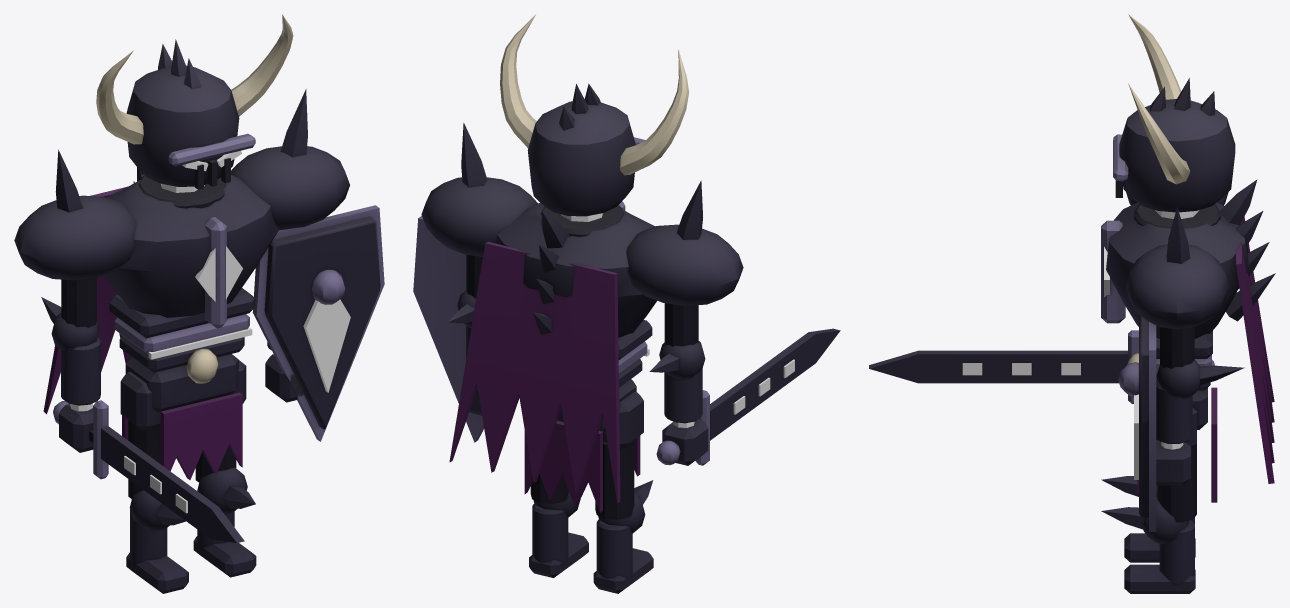
The model's file is foe_knight.fbx.
The picture shows the model from 3 angles, left to right: view 1: azimuth 30°, elevation 25°; view 2: azimuth 150°, elevation 25°; view 3: azimuth 270°, elevation 25°; orthographic projection. The views are drawn at different scales.
Parts seen in each view (by area): view 1: foe_knight_body, foe_knight_leg_fl, foe_knight_leg_fr, foe_knight_head, foe_knight_leg_br, foe_knight_leg_bl, foe_knight_leg_fl_glow, foe_knight_tail, foe_knight_body_glow, foe_knight_leg_fr_glow, foe_knight_head_glow; view 2: foe_knight_tail, foe_knight_leg_fr, foe_knight_body, foe_knight_head, foe_knight_leg_fl, foe_knight_leg_br, foe_knight_leg_bl, foe_knight_leg_fr_glow; view 3: foe_knight_leg_fl, foe_knight_head, foe_knight_body, foe_knight_leg_fr, foe_knight_leg_bl, foe_knight_tail, foe_knight_leg_br, foe_knight_leg_fr_glow, foe_knight_leg_fl_glow.
Part boxes in pixels (bbox=[...]): foe_knight_body: bbox=[104, 167, 279, 479]; foe_knight_leg_fl: bbox=[231, 89, 384, 441]; foe_knight_leg_fr: bbox=[14, 149, 244, 542]; foe_knight_head: bbox=[96, 14, 293, 189]; foe_knight_leg_br: bbox=[120, 372, 188, 593]; foe_knight_leg_bl: bbox=[193, 360, 256, 577]; foe_knight_leg_fl_glow: bbox=[303, 299, 350, 392]; foe_knight_tail: bbox=[43, 186, 131, 414]; foe_knight_body_glow: bbox=[148, 246, 252, 359]; foe_knight_leg_fr_glow: bbox=[70, 403, 187, 513]; foe_knight_head_glow: bbox=[161, 150, 241, 192]; foe_knight_tail: bbox=[449, 241, 620, 503]; foe_knight_leg_fr: bbox=[626, 180, 840, 465]; foe_knight_body: bbox=[496, 201, 656, 512]; foe_knight_head: bbox=[500, 14, 688, 216]; foe_knight_leg_fl: bbox=[413, 122, 537, 442]; foe_knight_leg_br: bbox=[593, 392, 653, 593]; foe_knight_leg_bl: bbox=[529, 474, 588, 577]; foe_knight_leg_fr_glow: bbox=[673, 359, 794, 427]; foe_knight_leg_fl: bbox=[1118, 207, 1244, 531]; foe_knight_head: bbox=[1113, 14, 1235, 212]; foe_knight_body: bbox=[1101, 179, 1275, 502]; foe_knight_leg_fr: bbox=[869, 192, 1228, 403]; foe_knight_leg_bl: bbox=[1101, 407, 1196, 593]; foe_knight_tail: bbox=[1236, 216, 1274, 483]; foe_knight_leg_br: bbox=[1101, 476, 1195, 562]; foe_knight_leg_fr_glow: bbox=[962, 363, 1080, 375]; foe_knight_leg_fl_glow: bbox=[1134, 394, 1183, 479].
Size of the model in its own units: 498 by 752 by 528.
2 materials, 1 textured.
